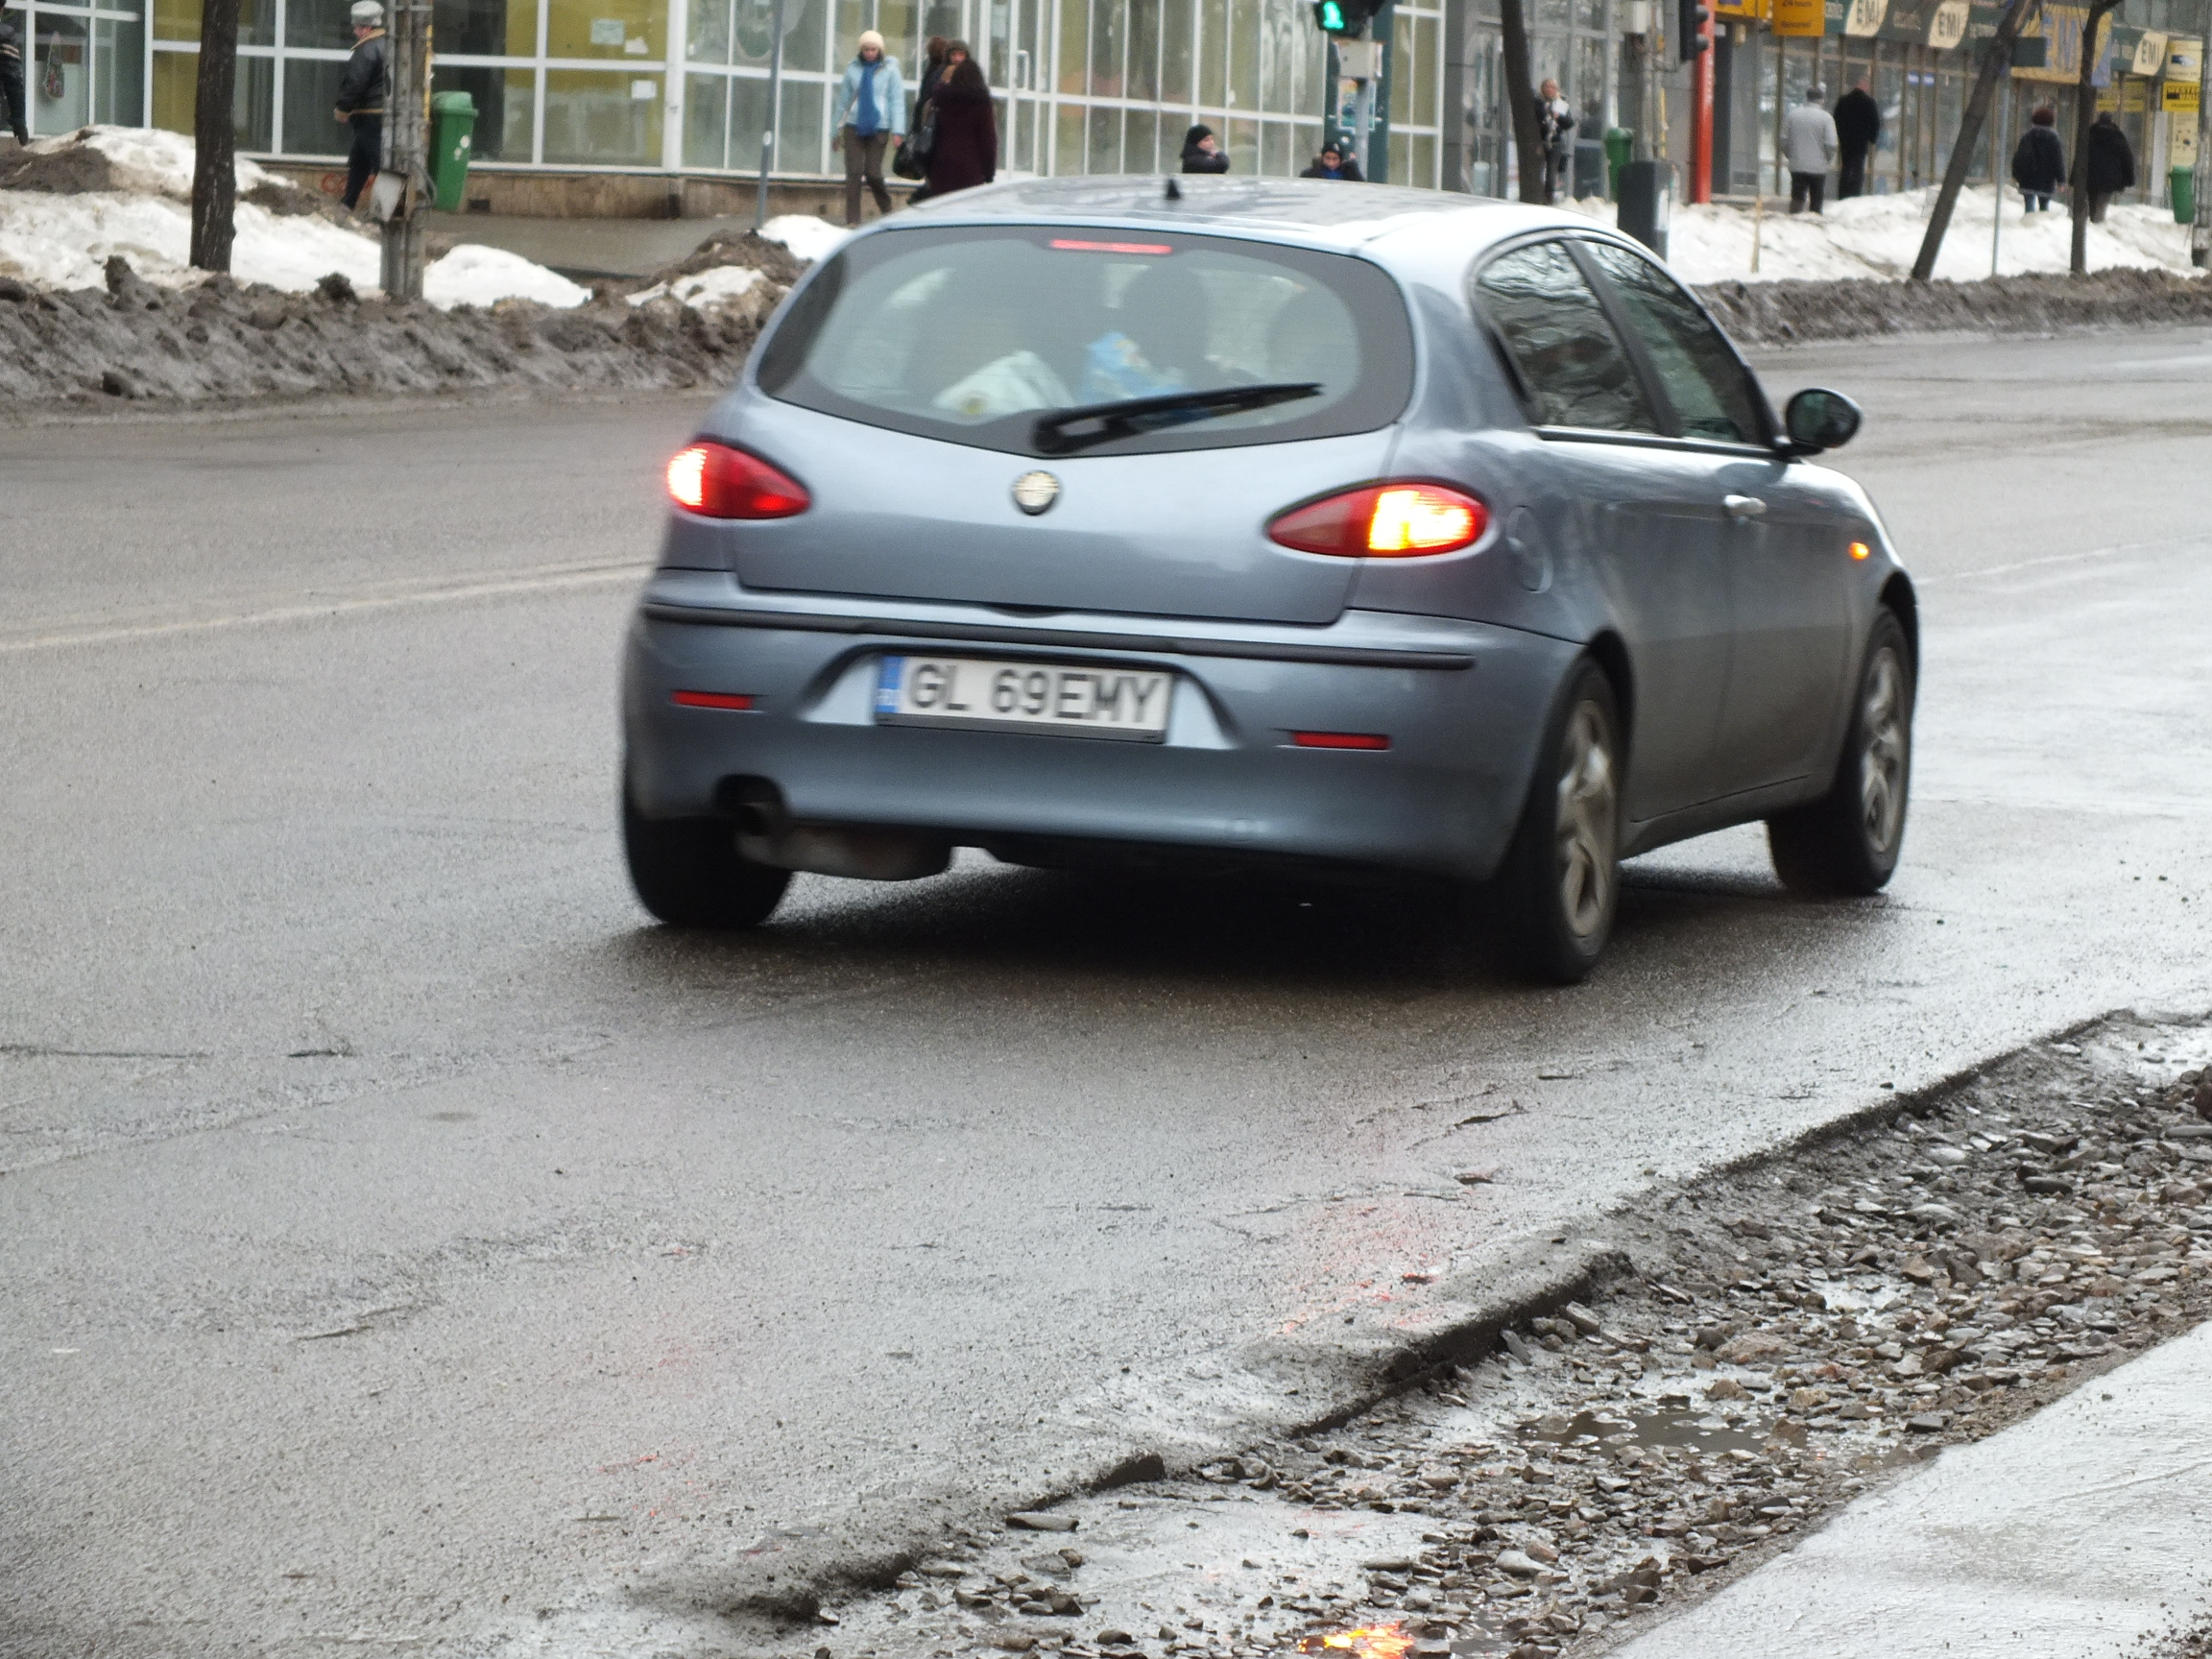GL69EMY: (877, 659, 1162, 729)
